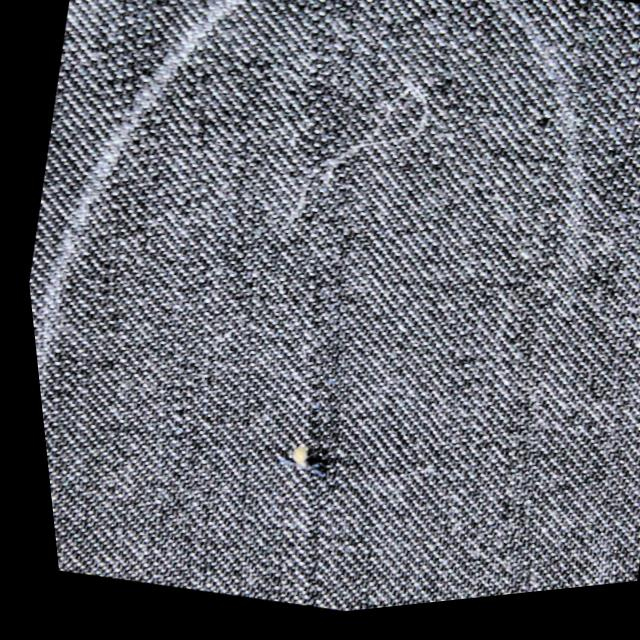Hole: (264, 443, 323, 481)
